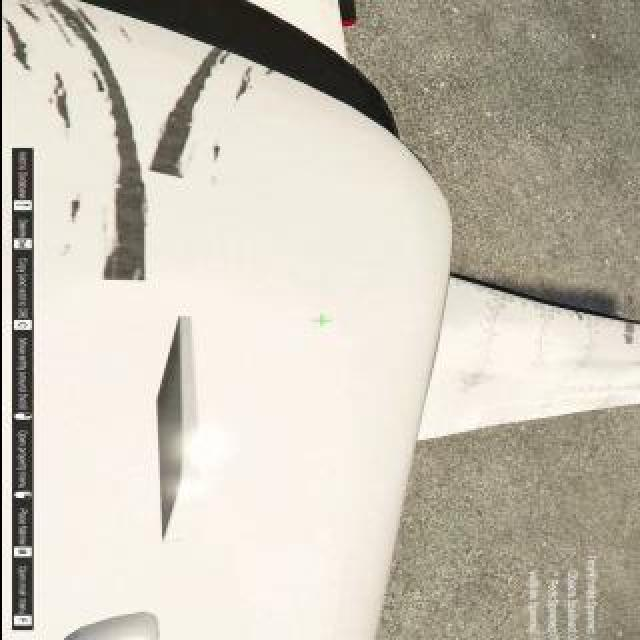dent: (57, 11, 143, 281), (146, 47, 226, 179), (9, 21, 28, 69), (53, 86, 70, 129)
